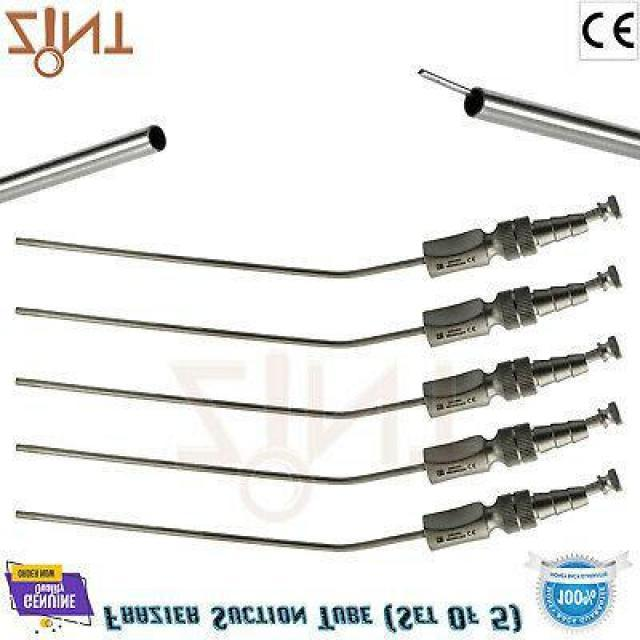Frazier: (13, 260, 624, 354), (13, 466, 624, 556), (12, 333, 626, 421), (12, 402, 626, 489), (14, 194, 621, 282), (462, 86, 640, 158), (0, 128, 166, 205)
